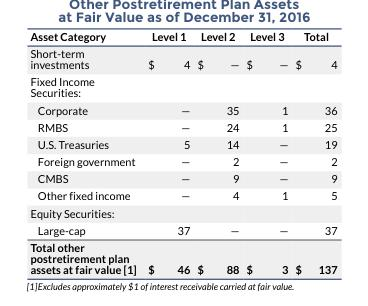table: (29, 28, 336, 275)
table column: (29, 28, 141, 275), (141, 28, 192, 275), (241, 28, 291, 275), (192, 28, 241, 275), (291, 28, 336, 275)
table column header: (29, 28, 336, 44)
table projected row header: (29, 72, 336, 100), (29, 203, 336, 220)
table row: (29, 238, 336, 275), (29, 44, 336, 72), (29, 72, 336, 100), (29, 117, 336, 135), (29, 220, 336, 238), (29, 100, 336, 117), (29, 135, 336, 152), (29, 152, 336, 169), (29, 169, 336, 186), (29, 186, 336, 203), (29, 203, 336, 220), (29, 28, 336, 44)
